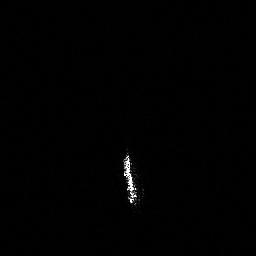ship: (117, 149, 146, 209)
